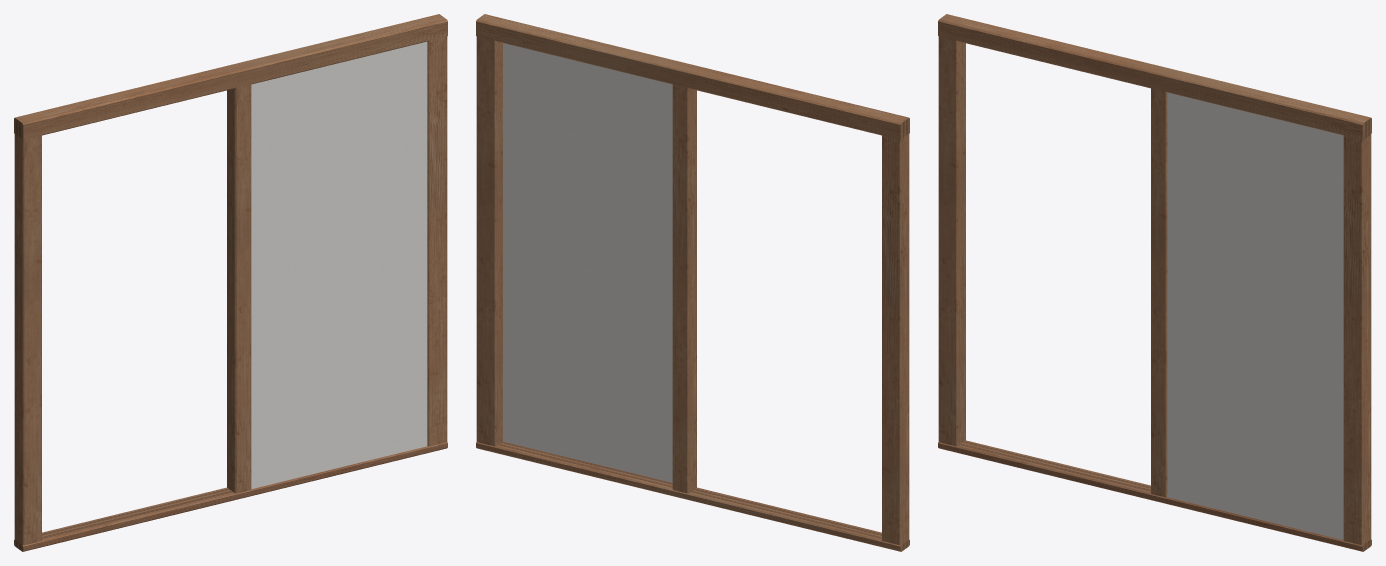
Rendered from SM_Baeryeom_Door_E1.fbx.
3 renders of one model, left to right at view 1: azimuth 30°, elevation 25°; view 2: azimuth 150°, elevation 25°; view 3: azimuth 330°, elevation 25°, orthographic.
Parts seen in each view (by area): view 1: SM_Baeryeom_Door_E1; view 2: SM_Baeryeom_Door_E1; view 3: SM_Baeryeom_Door_E1.
Boxes of the visible parts, x1,y1,x2,y2 form: SM_Baeryeom_Door_E1: (14,14,447,551); SM_Baeryeom_Door_E1: (476,14,909,551); SM_Baeryeom_Door_E1: (938,14,1371,551).
Bounding box in the file's own units: 183 × 176 × 6.84.
